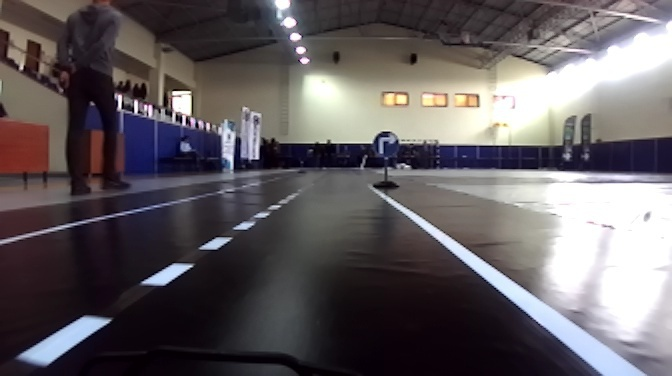saga_donus: (370, 131, 400, 163)
